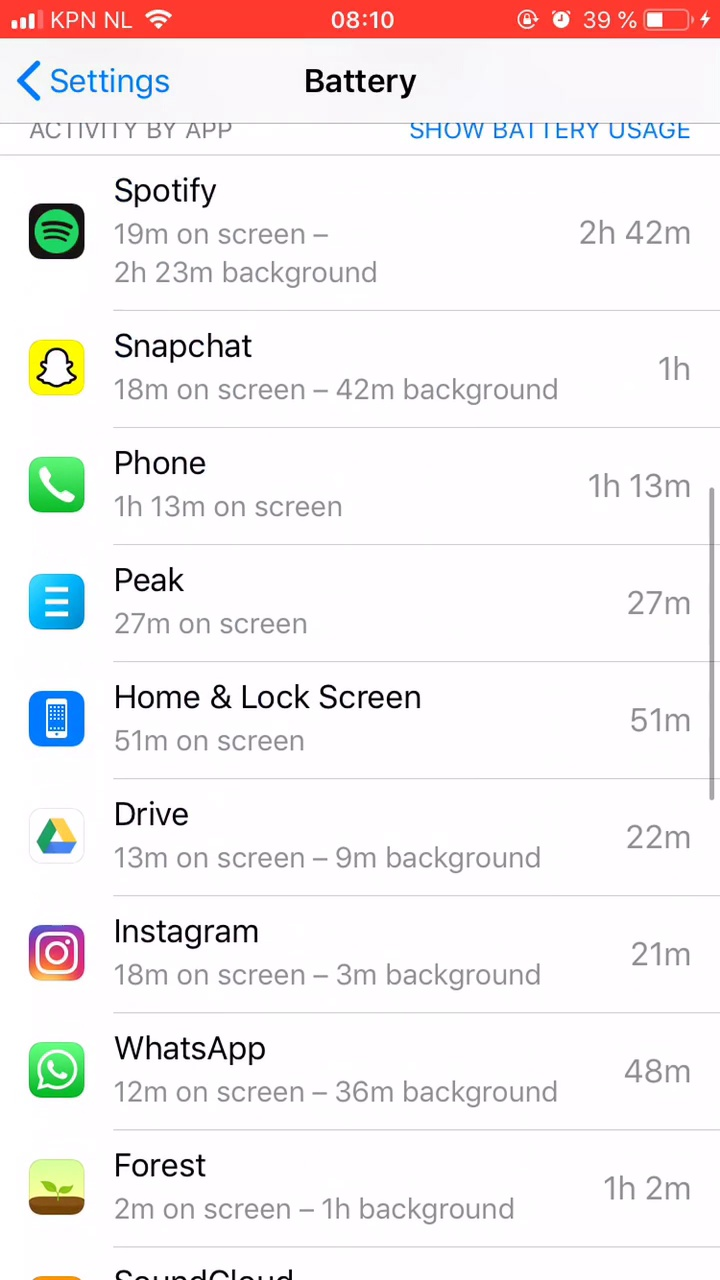app: (23, 169, 700, 290), (19, 324, 702, 413), (15, 435, 698, 524), (18, 555, 701, 644), (19, 671, 702, 760), (19, 790, 702, 879), (15, 909, 698, 998), (20, 1021, 703, 1110), (18, 1143, 701, 1232)
